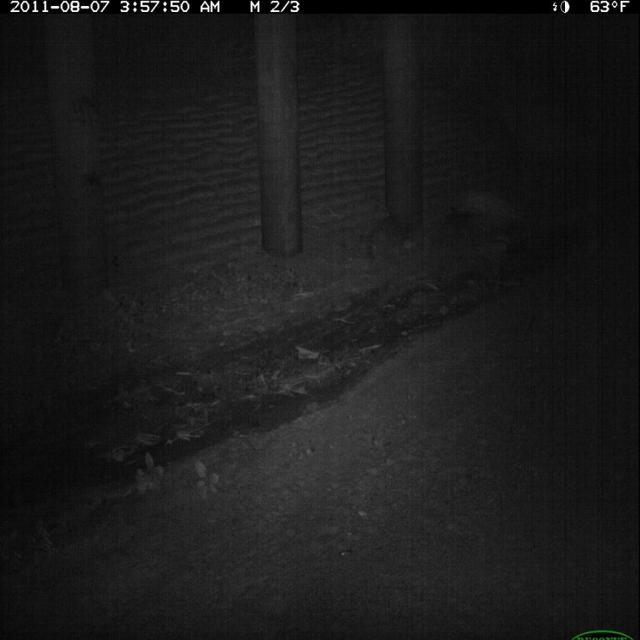raccoon: (363, 210, 420, 268), (435, 201, 491, 256)
